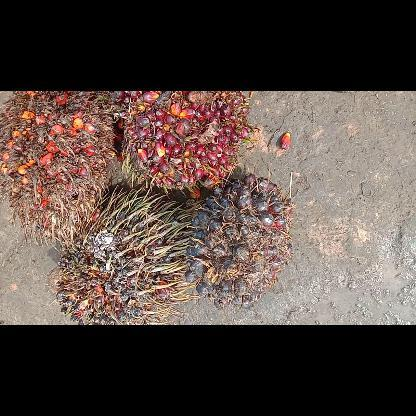TBS abnormal: (51, 188, 193, 324)
TBS masak: (118, 92, 256, 192)
TBS mentah: (186, 170, 290, 308)
Terlalu masak: (1, 91, 113, 249)
